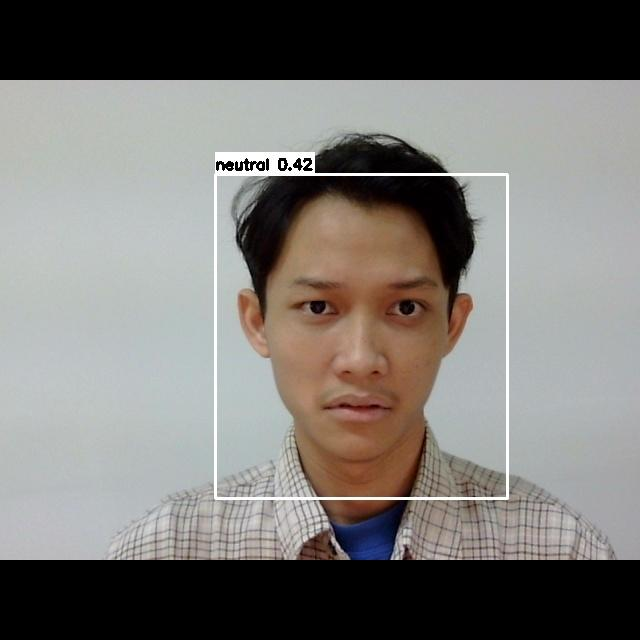Fear: (262, 248, 461, 450)
